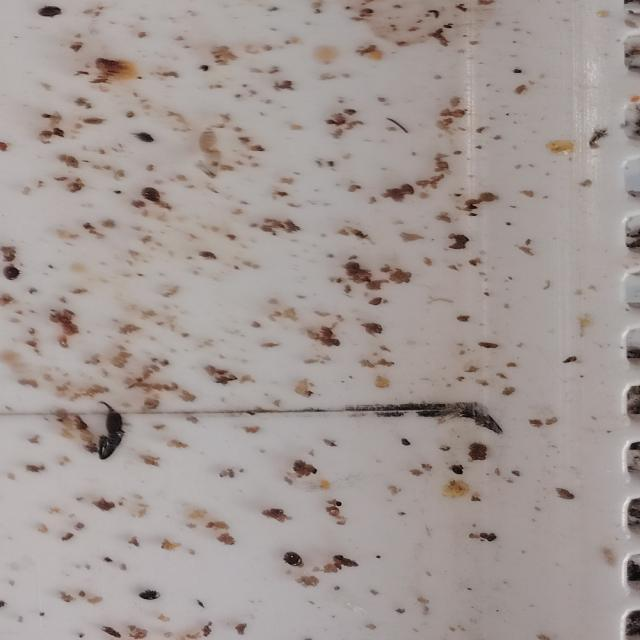varroa: (4, 265, 24, 284), (38, 5, 65, 19), (142, 188, 162, 205), (285, 553, 303, 570), (138, 590, 163, 602)
